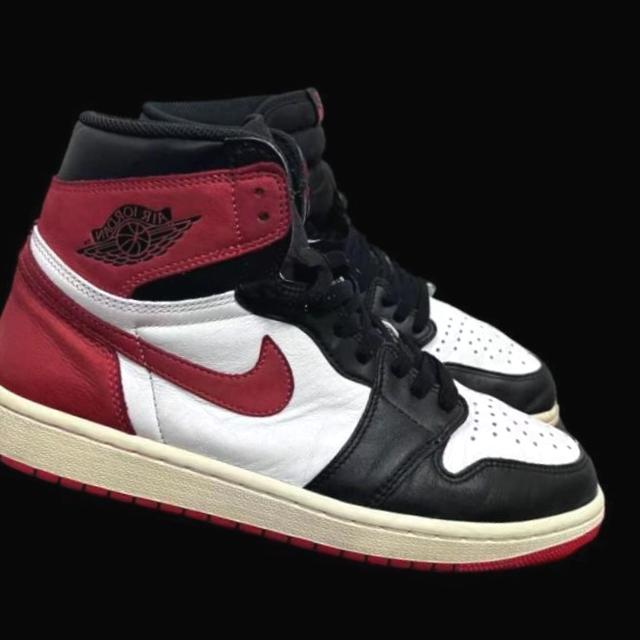nike_original_jordan: (0, 67, 640, 614), (88, 48, 621, 430)
